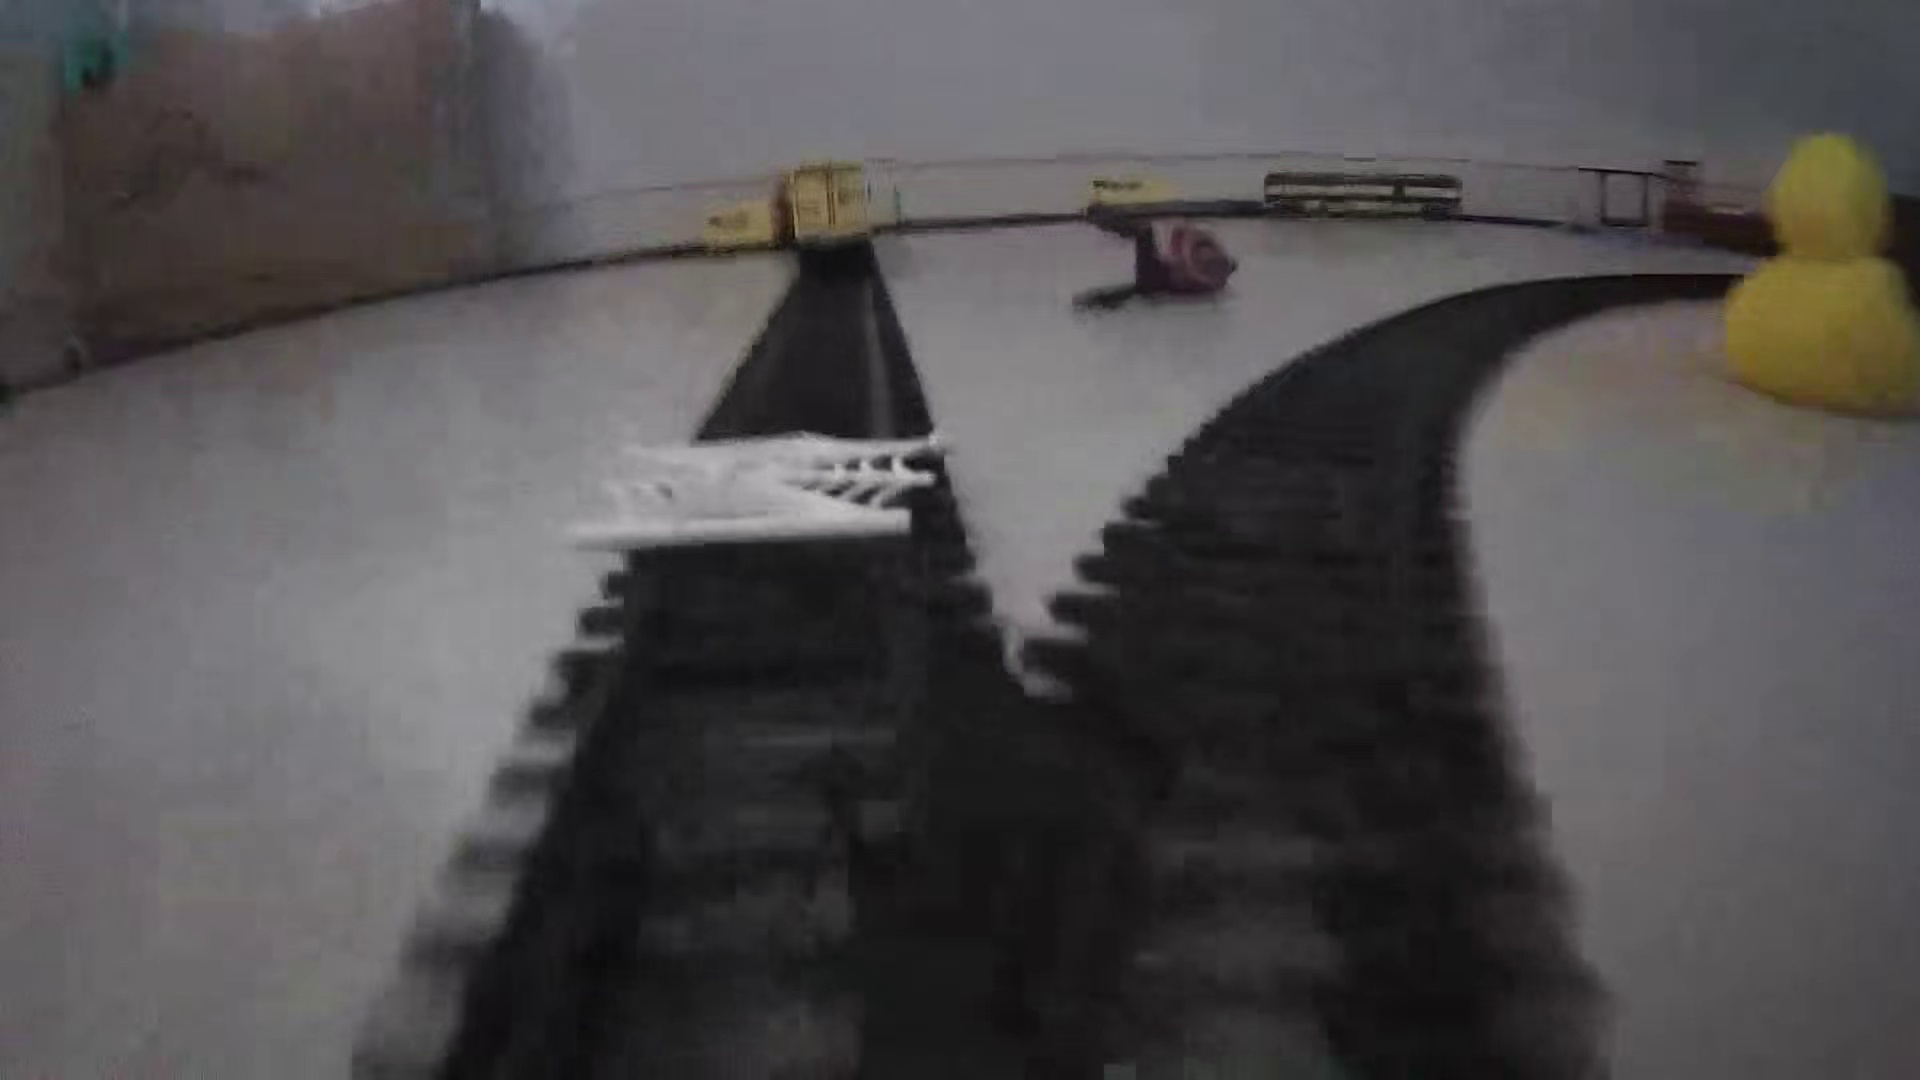people: (1069, 189, 1247, 316)
web: (561, 422, 952, 551)
